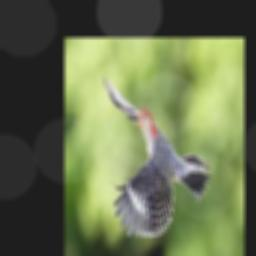Woodpecker: (103, 73, 210, 236)
